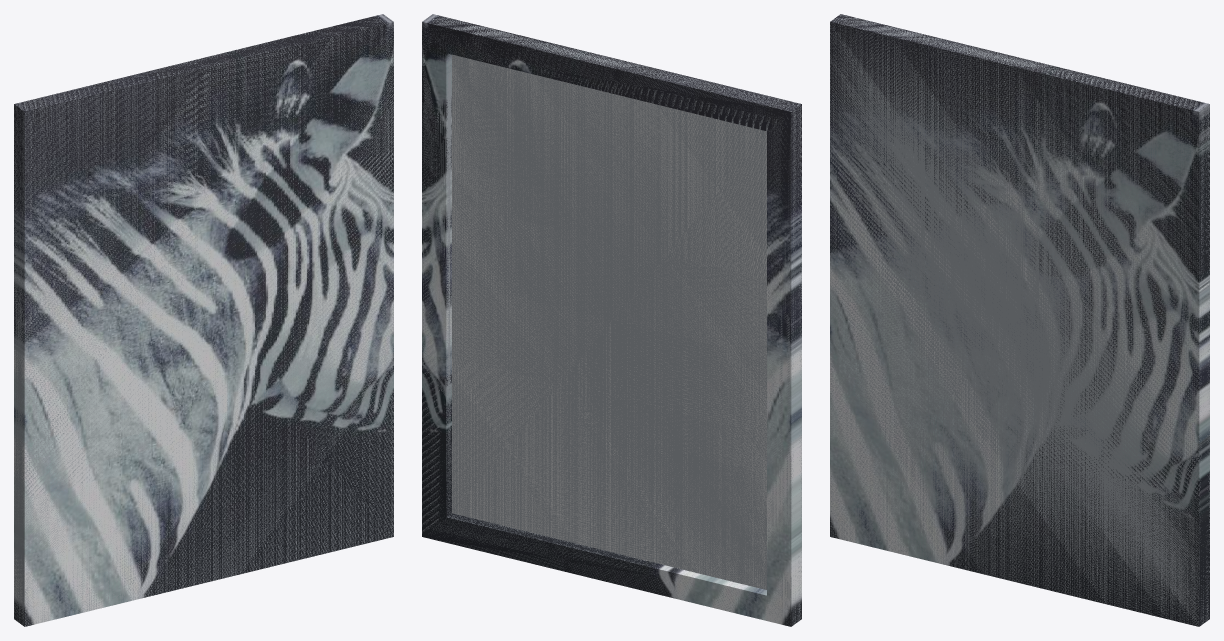
The model's file is prop_sign_optometry_blue.fbx.
The picture shows the model from 3 angles, left to right: view 1: azimuth 30°, elevation 25°; view 2: azimuth 150°, elevation 25°; view 3: azimuth 330°, elevation 25°; orthographic projection.
Parts seen in each view (by area): view 1: Groupe_53_1; view 2: Groupe_53_1; view 3: Groupe_53_1.
Part boxes in pixels (bbox=[...]): Groupe_53_1: bbox=[14, 14, 393, 626]; Groupe_53_1: bbox=[422, 14, 801, 626]; Groupe_53_1: bbox=[830, 14, 1209, 626].
Bounding box in the file's own units: 0.6 × 0.8 × 0.03.
